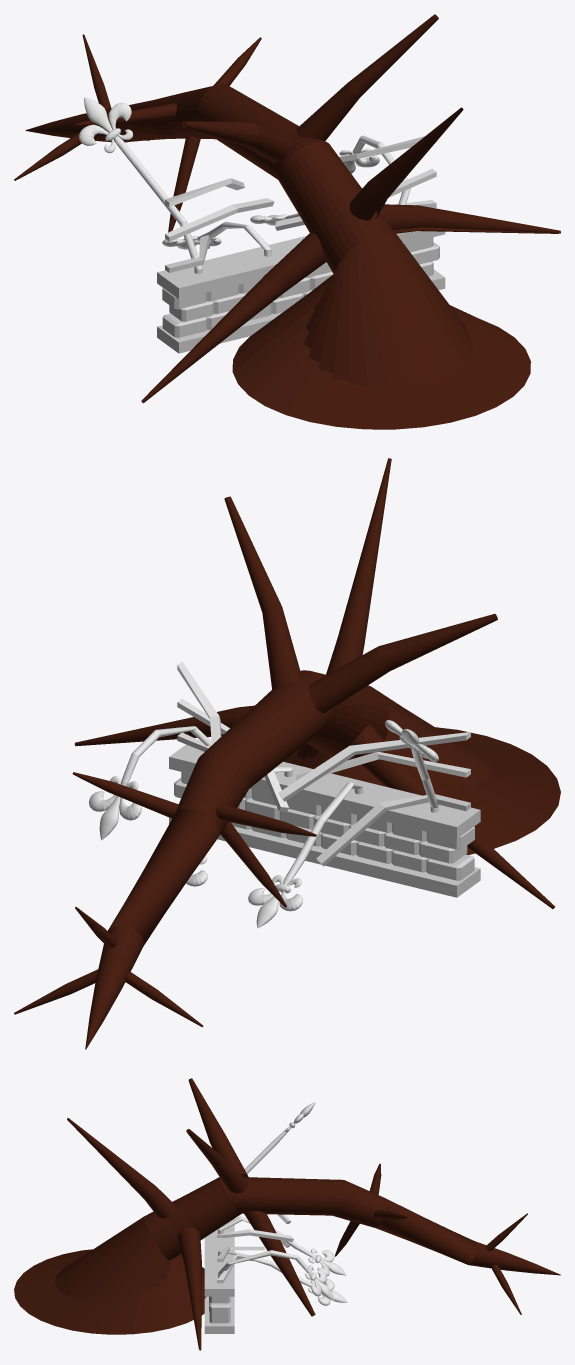
The model's file is FenceNightBent.fbx.
3 views of the same model, one above another, from view 1: azimuth 30°, elevation 25°; view 2: azimuth 150°, elevation 25°; view 3: azimuth 270°, elevation 25° (orthographic). The views are drawn at different scales.
Parts seen in each view (by area): view 1: Cylinder.004, Cube.032, Cylinder.007, Cube.004, Cylinder.002, Cylinder.003, Cube.029, Cube.003, Cube.030, Cube.005; view 2: Cylinder.004, Cube.032, Cylinder.003, Cylinder.002, Cube.003, Cube.005, Cylinder.007, Cube.004, Cube.030, Cube.029; view 3: Cylinder.004, Cube.032, Cylinder.002, Cylinder.003, Cylinder.001, Cylinder.007, Cube.030.
Boxes of the visible parts, x1,y1,x2,y2 form: Cylinder.004: (14,14,560,429); Cube.032: (157,231,445,353); Cylinder.007: (79,97,202,273); Cube.004: (165,198,274,241); Cylinder.002: (339,135,410,204); Cylinder.003: (162,221,271,256); Cube.029: (275,169,436,230); Cube.003: (165,178,244,207); Cube.030: (339,136,436,161); Cube.005: (165,235,210,272); Cylinder.004: (14,458,560,1049); Cube.032: (169,744,480,897); Cylinder.003: (248,782,363,928); Cylinder.002: (89,726,211,840); Cube.003: (278,732,470,801); Cube.005: (316,794,470,866); Cylinder.007: (385,720,438,812); Cube.004: (296,752,470,780); Cube.030: (177,661,221,745); Cube.029: (177,699,288,811); Cylinder.004: (14,1078,560,1350); Cube.032: (204,1218,234,1333); Cylinder.002: (218,1250,333,1300); Cylinder.003: (218,1216,345,1276); Cylinder.001: (218,1250,347,1305); Cylinder.007: (244,1102,315,1173); Cube.030: (217,1229,293,1241).
Size of the model in its own units: 1323 by 917 by 2114.
